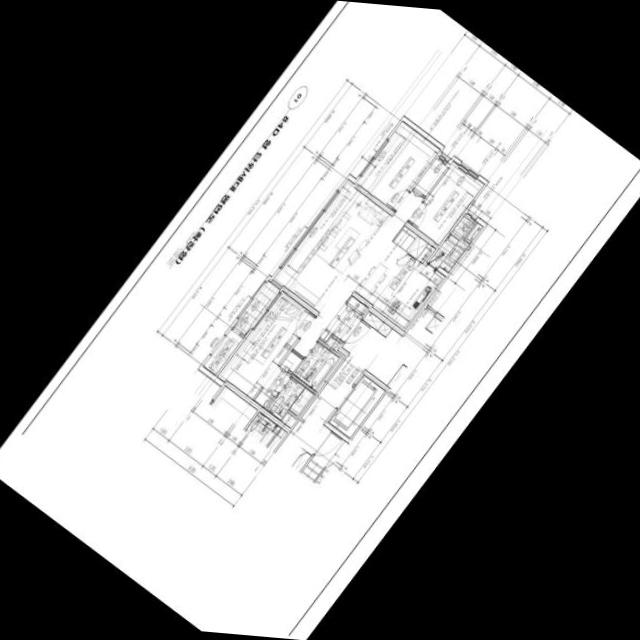background: (0, 0, 640, 640)
space_balconi: (427, 213, 475, 272), (232, 280, 278, 334)
space_bedroom: (216, 290, 313, 398), (354, 120, 439, 210), (407, 160, 483, 244)
space_dressroom: (252, 366, 290, 408), (280, 350, 301, 372)
space_elevator: (327, 374, 384, 437)
space_elevator_hall: (273, 308, 433, 465)
space_front: (322, 295, 367, 341)
space_kitchen: (353, 224, 444, 331)
space_living_room: (271, 178, 423, 356)
space_other: (314, 336, 343, 391), (413, 155, 448, 196), (280, 394, 314, 427), (386, 364, 405, 388), (361, 311, 382, 330), (291, 452, 310, 471), (465, 222, 481, 241), (424, 316, 440, 332), (376, 322, 390, 336)
space_outdoor_room: (202, 329, 242, 374)
space_staircase: (300, 431, 348, 485)
space_toilet: (292, 341, 338, 389), (266, 376, 312, 419)
